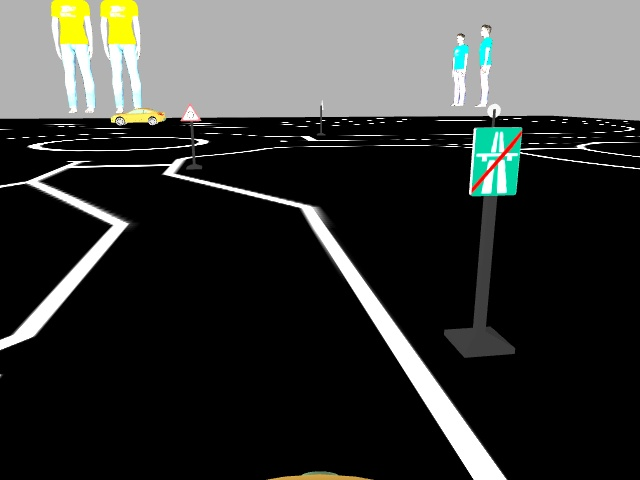HighwayExit: (467, 126, 520, 195)
